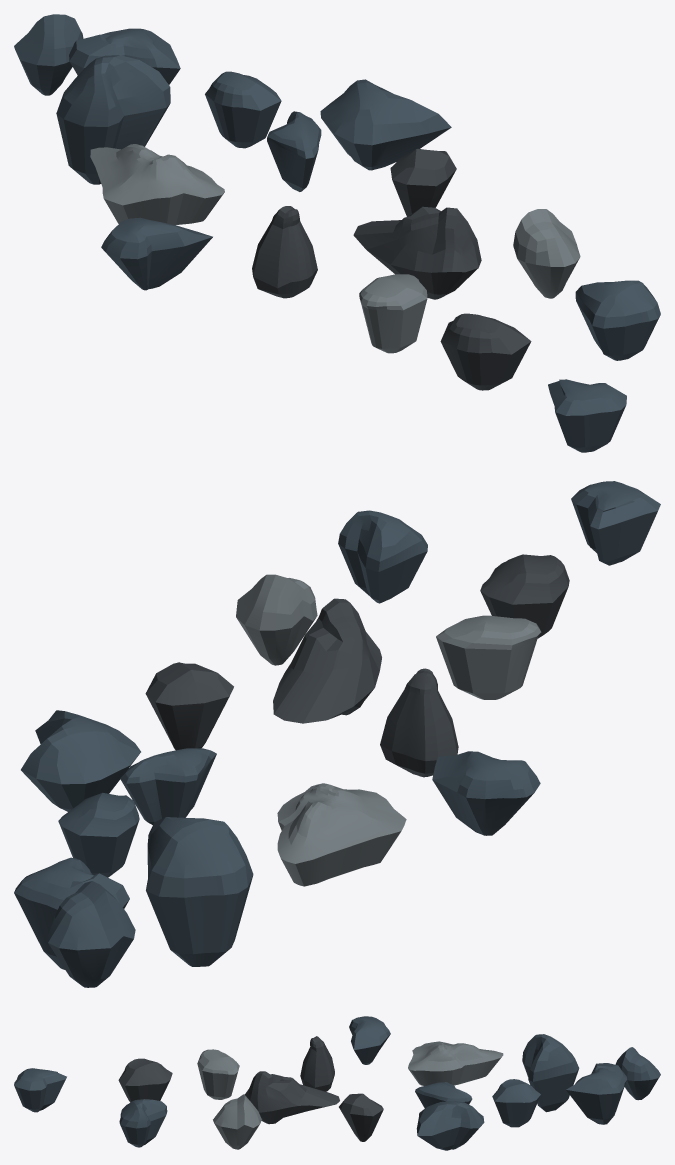
Rendered from Grass.fbx.
3 renders of one model, top to bottom at view 1: azimuth 30°, elevation 25°; view 2: azimuth 150°, elevation 25°; view 3: azimuth 270°, elevation 25°, orthographic. The views are drawn at different scales.
Parts seen in each view (by area): view 1: Grass.014, Grass.004, Grass, Grass.001, Grass.006, Grass.012, Grass.009, Grass.011, Grass.007, Grass.013, Grass.010, Grass.008 (+4 smaller); view 2: Grass.014, Grass.004, Grass, Grass.001, Grass.007, Grass.015, Grass.006, Grass.012, Grass.011, Grass.003, Grass.013, Grass.010 (+4 smaller); view 3: Grass.004, Grass.014, Grass, Grass.001, Grass.002, Grass.009, Grass.010, Grass.012, Grass.008, Grass.013, Grass.007, Grass.015 (+4 smaller).
Part boxes in pixels (x1,y1,x2,y2): Grass.014: [56, 55, 170, 184]; Grass.004: [90, 144, 224, 225]; Grass: [353, 206, 481, 299]; Grass.001: [320, 79, 451, 170]; Grass.006: [101, 217, 212, 290]; Grass.012: [575, 280, 660, 360]; Grass.009: [440, 313, 531, 390]; Grass.011: [252, 206, 317, 298]; Grass.007: [359, 274, 427, 353]; Grass.013: [548, 379, 626, 452]; Grass.010: [513, 209, 580, 298]; Grass.008: [205, 71, 281, 148]; Grass.014: [146, 817, 253, 966]; Grass.004: [277, 783, 406, 886]; Grass: [273, 598, 381, 723]; Grass.001: [21, 710, 140, 811]; Grass.007: [436, 615, 541, 699]; Grass.015: [48, 881, 135, 987]; Grass.006: [432, 751, 540, 835]; Grass.012: [338, 510, 427, 603]; Grass.011: [380, 668, 458, 777]; Grass.003: [145, 662, 233, 750]; Grass.013: [571, 481, 660, 565]; Grass.010: [236, 574, 317, 665]; Grass.004: [408, 1041, 503, 1085]; Grass.014: [522, 1034, 579, 1112]; Grass: [245, 1071, 339, 1124]; Grass.001: [416, 1101, 484, 1150]; Grass.002: [566, 1063, 626, 1124]; Grass.009: [118, 1058, 172, 1102]; Grass.010: [213, 1094, 261, 1149]; Grass.012: [119, 1099, 167, 1147]; Grass.008: [492, 1079, 540, 1127]; Grass.013: [14, 1068, 66, 1112]; Grass.007: [197, 1049, 239, 1099]; Grass.015: [615, 1047, 660, 1100].
Bounding box in the file's own units: 3240 × 977 × 7778.
